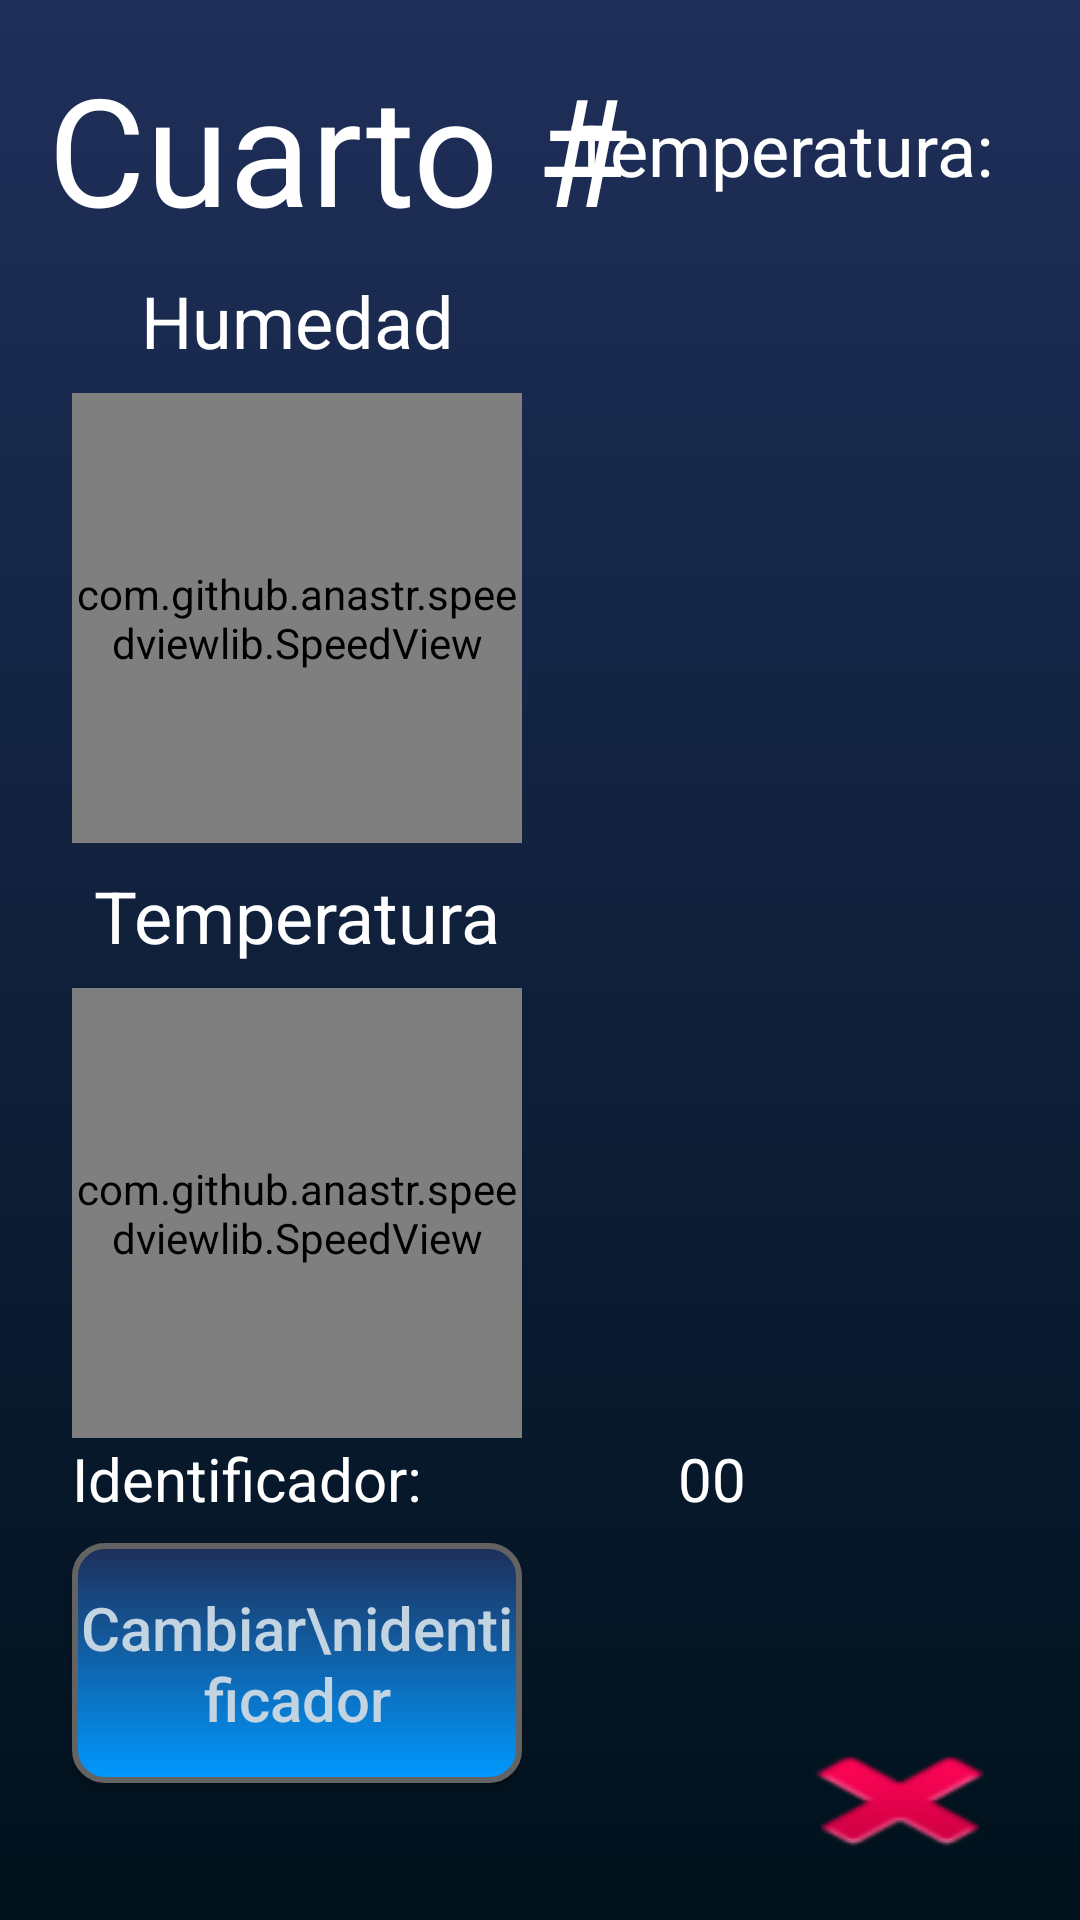

Where to tap for icons on this 1080 x 1920 app screen, as point (x, y):
delete: point (900, 1801)
